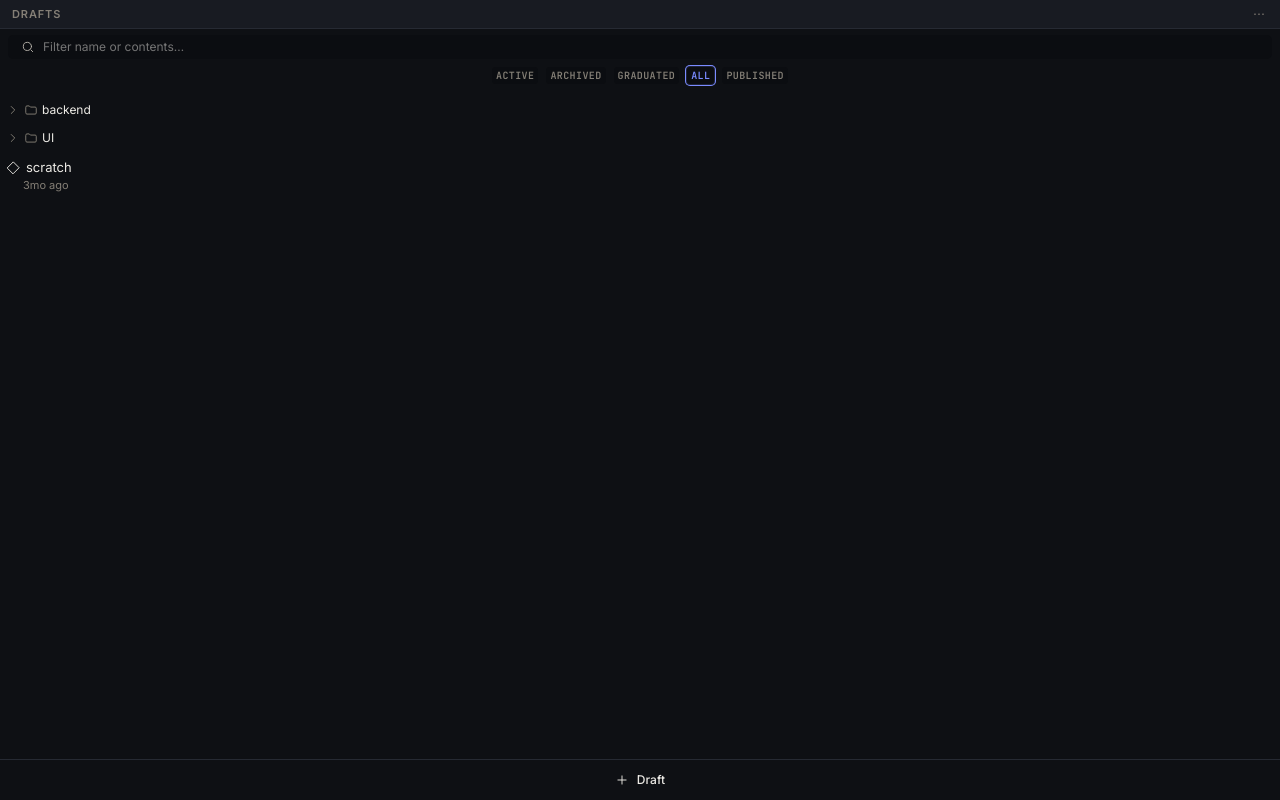
Drafts panel (DRP-drafts-panel.md) › DRP-FR-20, DRP-FR-23, DRP-FR-26, DRP-FR-32: New Folder from the root commits with Enter and reveals the folder
expect the text "scratch" is shown: met, box left=26, top=158, right=72, bottom=178
Click the button named "Drafts actions".
click(1259, 14)  # box left=1250, top=5, right=1268, bottom=23
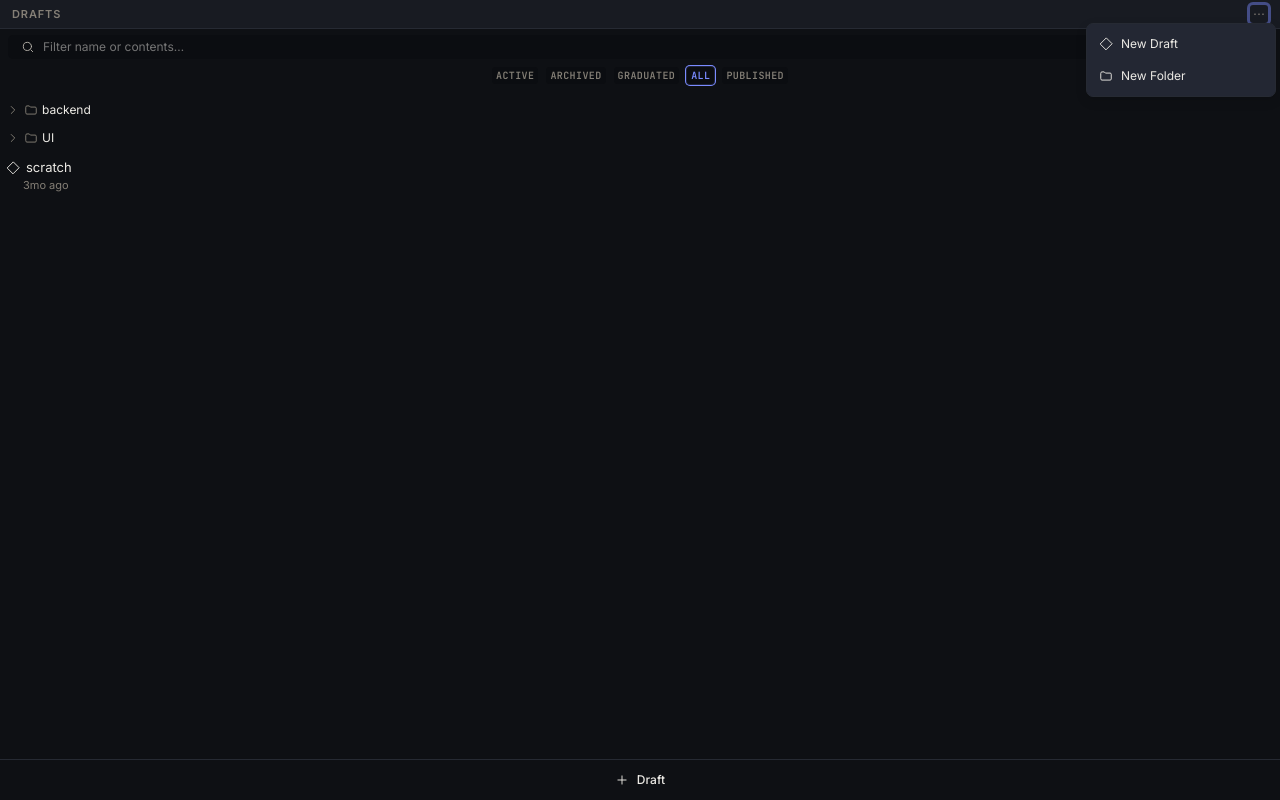
Click the menu item "New Folder".
click(1142, 76)  # box left=1099, top=68, right=1186, bottom=83
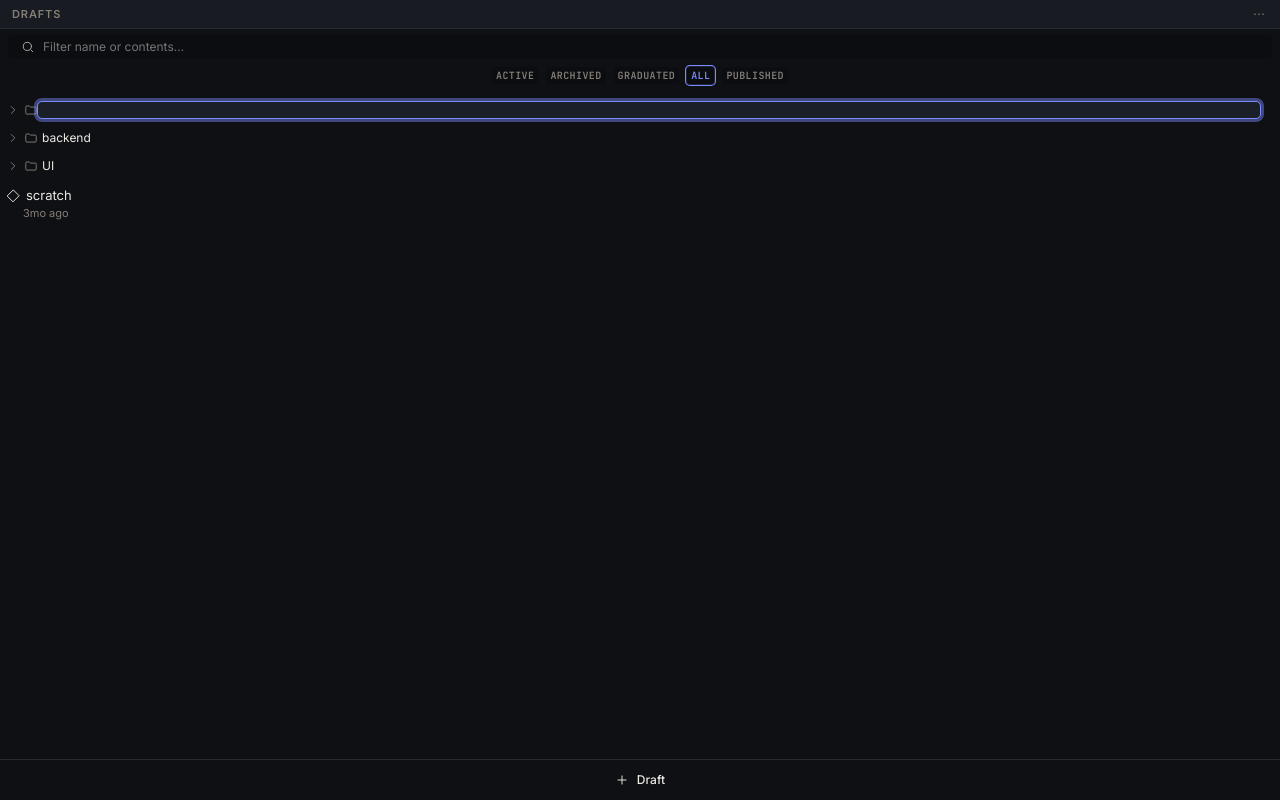
Type "research" into the field named "New folder name".
click(649, 110); type("research")  # box left=37, top=101, right=1261, bottom=119
Then press Enter
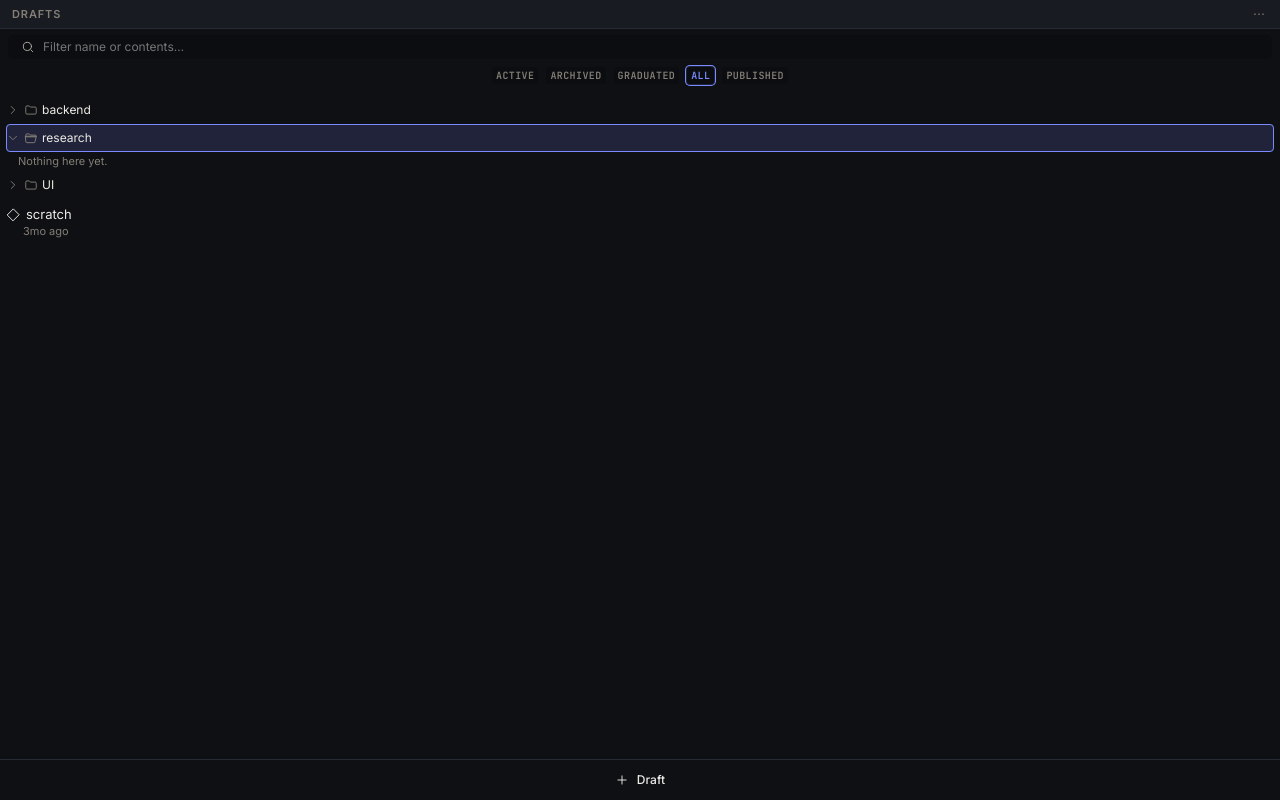
expect the list item with aria-label "Folder research" is shown: met, box left=6, top=124, right=1274, bottom=152
